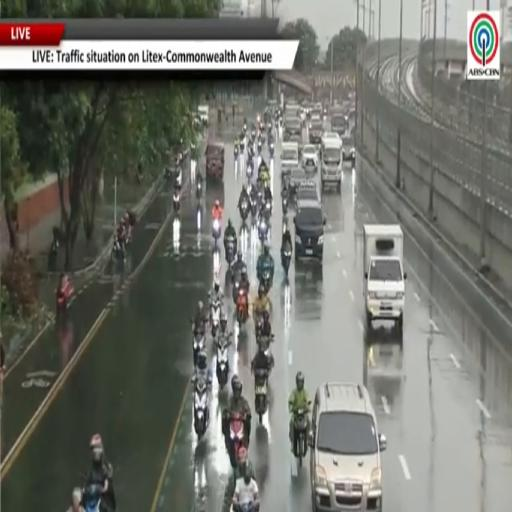car: (309, 382, 386, 511), (294, 199, 326, 262), (281, 142, 299, 175), (288, 167, 309, 194), (296, 181, 319, 201), (283, 117, 302, 141), (301, 144, 317, 172), (342, 136, 355, 166), (309, 118, 323, 143), (322, 132, 340, 139)
motorcycle: (194, 378, 209, 440), (230, 412, 246, 467), (294, 409, 308, 468), (216, 336, 231, 389), (255, 370, 268, 423), (257, 325, 273, 367), (82, 485, 101, 511), (56, 284, 72, 314), (236, 287, 248, 326), (193, 330, 205, 366), (211, 298, 221, 338), (111, 236, 126, 262), (259, 268, 272, 294), (282, 244, 291, 278), (226, 237, 235, 268), (258, 217, 268, 243), (233, 271, 241, 303), (212, 219, 221, 246), (255, 312, 263, 342), (240, 199, 249, 221), (264, 199, 272, 220), (173, 192, 180, 215), (246, 160, 253, 181), (251, 198, 257, 220), (258, 186, 264, 207), (196, 181, 202, 200), (282, 197, 288, 215), (239, 138, 245, 154), (250, 129, 256, 144), (269, 142, 274, 157), (234, 146, 239, 158), (267, 122, 272, 134), (257, 140, 261, 154), (243, 124, 247, 135)
truck: (363, 224, 406, 331), (321, 135, 342, 190), (206, 142, 224, 184), (198, 105, 209, 126)
